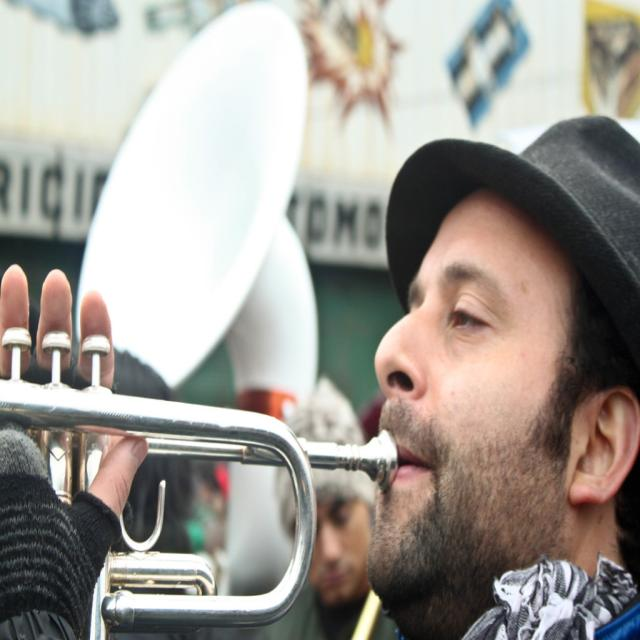Hat: (385, 103, 639, 328)
